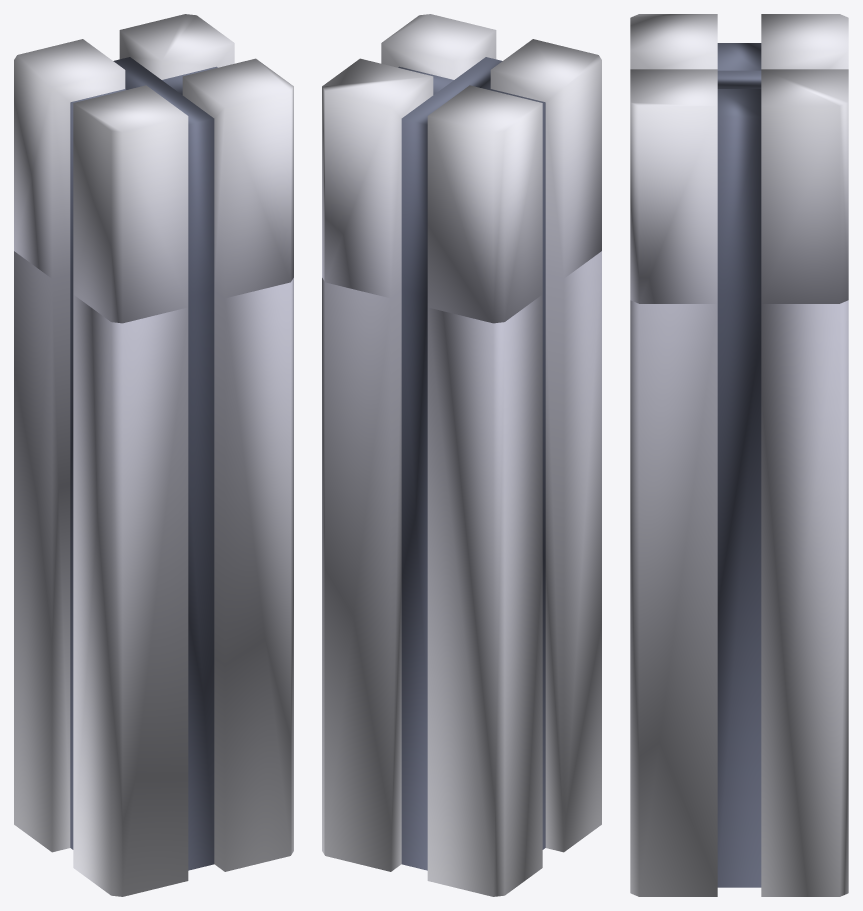
File: low-detail-building-g_lev1.glb
The picture shows the model from 3 angles, left to right: view 1: azimuth 30°, elevation 25°; view 2: azimuth 150°, elevation 25°; view 3: azimuth 270°, elevation 25°; orthographic projection. The views are drawn at different scales.
Visible parts, largest first — view 1: low-detail-building-g_lev1; view 2: low-detail-building-g_lev1; view 3: low-detail-building-g_lev1.
Boxes of the visible parts, bbox=[...] form: low-detail-building-g_lev1: bbox=[14, 14, 293, 896]; low-detail-building-g_lev1: bbox=[322, 14, 601, 896]; low-detail-building-g_lev1: bbox=[630, 14, 848, 896].
Size of the model in its own units: 0.5 by 2 by 0.5.
1 material, 1 textured.
